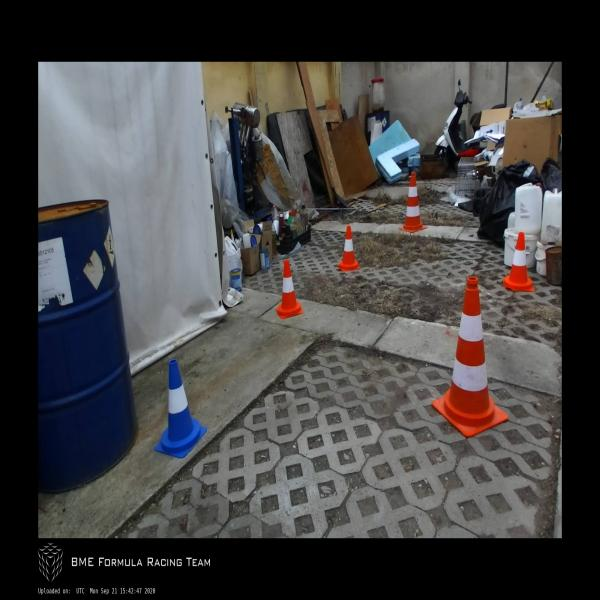blue_cone: (155, 360, 204, 459)
large_orange_cone: (432, 277, 506, 436), (399, 173, 427, 233)
orange_cone: (502, 232, 533, 292), (275, 260, 304, 318), (338, 225, 359, 271)
